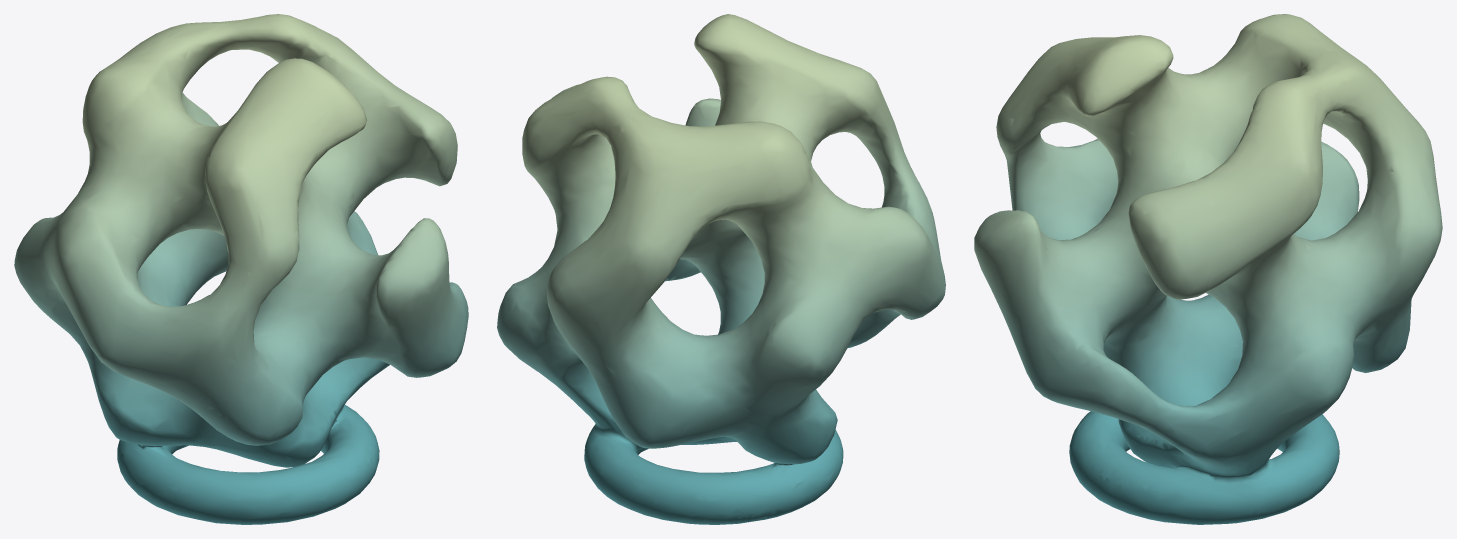
The model's file is gyroid.glb.
3 renders of one model, left to right at view 1: azimuth 30°, elevation 25°; view 2: azimuth 150°, elevation 25°; view 3: azimuth 270°, elevation 25°, orthographic. The views are drawn at different scales.
Visible parts, largest first — view 1: gyroid; view 2: gyroid; view 3: gyroid.
Boxes of the visible parts, box(x1,y1,x2,y2) form: gyroid: box(14, 14, 468, 524); gyroid: box(497, 14, 945, 524); gyroid: box(974, 14, 1442, 524).
Size of the model in its own units: 0.0693 by 0.0731 by 0.0693.
